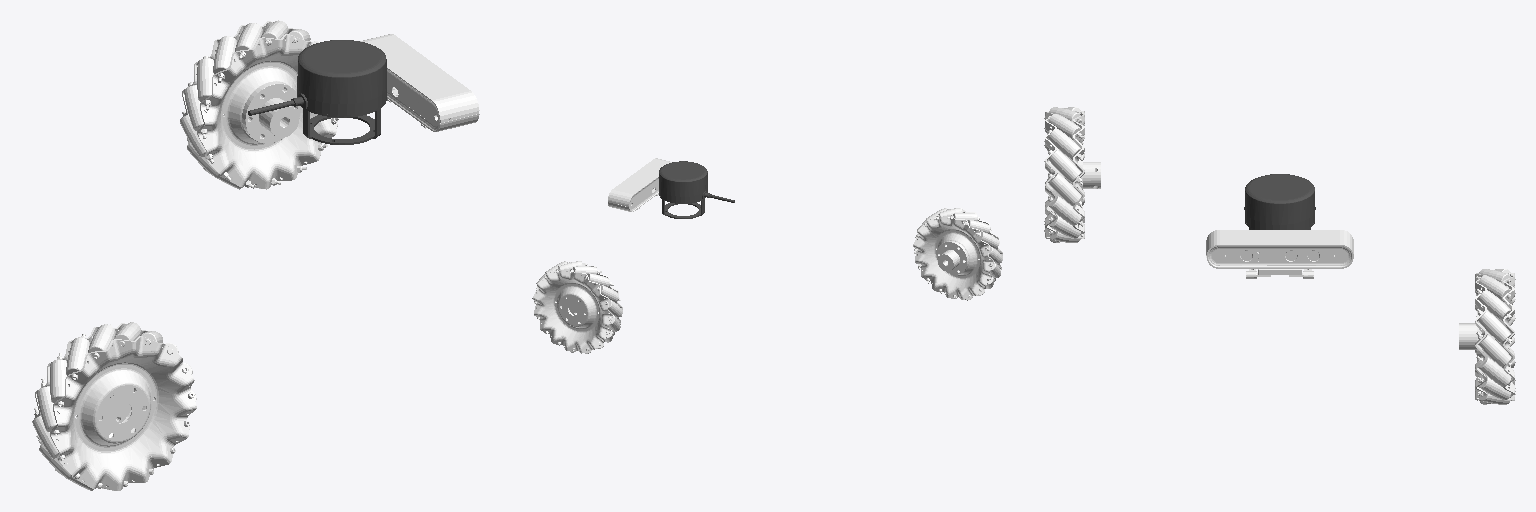
The robot description file, URDF, robot "senior_mec_dl_robot":
<?xml version="1.0" encoding="utf-8"?>
<!-- This URDF was automatically created by SolidWorks to URDF Exporter! Originally created by [author] ([email redacted]) 
     Commit Version: 1.6.0-4-g7f85cfe  Build Version: 1.6.7995.38578
     For more information, please see http://wiki.ros.org/sw_urdf_exporter -->
<robot
  name="senior_mec_dl_robot">
  <link
    name="base_link">
    <inertial>
      <origin
        xyz="0.00395812997139428 -0.0181699700367143 0.0426976808291864"
        rpy="0 0 0" />
      <mass
        value="3.63363059228835" />
      <inertia
        ixx="0.0123476894434173"
        ixy="-3.75380777513439E-05"
        ixz="3.2955850810326E-06"
        iyy="0.0191530909543642"
        iyz="-4.72702736402811E-07"
        izz="0.0300856570898858" />
    </inertial>
    <visual>
      <origin
        xyz="0 0 0"
        rpy="0 0 0" />
      <geometry>
        <mesh
          filename="package://wheeltec_robot_urdf/meshes/senior_mec_dl_robot_meshes/base_link.STL" />
      </geometry>
      <material
        name="">
        <color
          rgba="0.741176470588235 0.901960784313726 0.956862745098039 1" />
      </material>
    </visual>
    <collision>
      <origin
        xyz="0 0 0"
        rpy="0 0 0" />
      <geometry>
        <mesh
          filename="package://wheeltec_robot_urdf/meshes/senior_mec_dl_robot_meshes/base_link.STL" />
      </geometry>
    </collision>
  </link>
  <link
    name="lf_wheel_link">
    <inertial>
      <origin
        xyz="1.59463379857394E-05 -0.00251989341236478 4.50644259958333E-06"
        rpy="0 0 0" />
      <mass
        value="0.242981515052131" />
      <inertia
        ixx="0.000457072694528196"
        ixy="-1.9250151988867E-07"
        ixz="1.81223948807993E-08"
        iyy="0.000868054982970888"
        iyz="1.62139611461968E-08"
        izz="0.000456492835033346" />
    </inertial>
    <visual>
      <origin
        xyz="0 0 0"
        rpy="0 0 0" />
      <geometry>
        <mesh
          filename="package://wheeltec_robot_urdf/meshes/senior_mec_dl_robot_meshes/lf_wheel_link.STL" />
      </geometry>
      <material
        name="">
        <color
          rgba="1 1 1 1" />
      </material>
    </visual>
    <collision>
      <origin
        xyz="0 0 0"
        rpy="0 0 0" />
      <geometry>
        <mesh
          filename="package://wheeltec_robot_urdf/meshes/senior_mec_dl_robot_meshes/lf_wheel_link.STL" />
      </geometry>
    </collision>
  </link>
  <joint
    name="lf_wheel_joint"
    type="continuous">
    <origin
      xyz="0.213993160645858 0.240475641802969 0.016474000000001"
      rpy="0 0 0" />
    <parent
      link="base_link" />
    <child
      link="lf_wheel_link" />
    <axis
      xyz="0 -0.999999999999996 0" />
  </joint>
  <link
    name="lb_wheel_link">
    <inertial>
      <origin
        xyz="1.59463380910441E-05 -0.00251989341229217 4.50644260036048E-06"
        rpy="0 0 0" />
      <mass
        value="0.242981515052133" />
      <inertia
        ixx="0.000457072694528221"
        ixy="-1.92501519890702E-07"
        ixz="1.81223938957395E-08"
        iyy="0.000868054982970891"
        iyz="1.62139604712804E-08"
        izz="0.000456492835033342" />
    </inertial>
    <visual>
      <origin
        xyz="0 0 0"
        rpy="0 0 0" />
      <geometry>
        <mesh
          filename="package://wheeltec_robot_urdf/meshes/senior_mec_dl_robot_meshes/lb_wheel_link.STL" />
      </geometry>
      <material
        name="">
        <color
          rgba="1 1 1 1" />
      </material>
    </visual>
    <collision>
      <origin
        xyz="0 0 0"
        rpy="0 0 0" />
      <geometry>
        <mesh
          filename="package://wheeltec_robot_urdf/meshes/senior_mec_dl_robot_meshes/lb_wheel_link.STL" />
      </geometry>
    </collision>
  </link>
  <joint
    name="lb_wheel_joint"
    type="continuous">
    <origin
      xyz="-0.214006839354142 0.24047564180297 0.016474000000001"
      rpy="0 0 0" />
    <parent
      link="base_link" />
    <child
      link="lb_wheel_link" />
    <axis
      xyz="0 -0.999999999999996 0" />
  </joint>
  <link
    name="rb_wheel_link">
    <inertial>
      <origin
        xyz="-1.59465977699336E-05 0.00251989349341034 4.50644259479549E-06"
        rpy="0 0 0" />
      <mass
        value="0.242981515052113" />
      <inertia
        ixx="0.000457072694526328"
        ixy="-1.92499502994276E-07"
        ixz="-1.81223950058615E-08"
        iyy="0.000868054982972683"
        iyz="-1.6213961026137E-08"
        izz="0.000456492835033308" />
    </inertial>
    <visual>
      <origin
        xyz="0 0 0"
        rpy="0 0 0" />
      <geometry>
        <mesh
          filename="package://wheeltec_robot_urdf/meshes/senior_mec_dl_robot_meshes/rb_wheel_link.STL" />
      </geometry>
      <material
        name="">
        <color
          rgba="1 1 1 1" />
      </material>
    </visual>
    <collision>
      <origin
        xyz="0 0 0"
        rpy="0 0 0" />
      <geometry>
        <mesh
          filename="package://wheeltec_robot_urdf/meshes/senior_mec_dl_robot_meshes/rb_wheel_link.STL" />
      </geometry>
    </collision>
  </link>
  <joint
    name="rb_wheel_joint"
    type="continuous">
    <origin
      xyz="-0.214006839354144 -0.24044035819703 0.016474000000001"
      rpy="0 0 0" />
    <parent
      link="base_link" />
    <child
      link="rb_wheel_link" />
    <axis
      xyz="0 0.999999999999996 0" />
  </joint>
  <link
    name="rf_wheel_link">
    <inertial>
      <origin
        xyz="-1.59465979211737E-05 0.00251989349332665 4.50644254888777E-06"
        rpy="0 0 0" />
      <mass
        value="0.242981515051806" />
      <inertia
        ixx="0.000457072694525809"
        ixy="-1.92499502845376E-07"
        ixz="-1.81223936037035E-08"
        iyy="0.000868054982972009"
        iyz="-1.62139602190554E-08"
        izz="0.000456492835032971" />
    </inertial>
    <visual>
      <origin
        xyz="0 0 0"
        rpy="0 0 0" />
      <geometry>
        <mesh
          filename="package://wheeltec_robot_urdf/meshes/senior_mec_dl_robot_meshes/rf_wheel_link.STL" />
      </geometry>
      <material
        name="">
        <color
          rgba="1 1 1 1" />
      </material>
    </visual>
    <collision>
      <origin
        xyz="0 0 0"
        rpy="0 0 0" />
      <geometry>
        <mesh
          filename="package://wheeltec_robot_urdf/meshes/senior_mec_dl_robot_meshes/rf_wheel_link.STL" />
      </geometry>
    </collision>
  </link>
  <joint
    name="rf_wheel_joint"
    type="continuous">
    <origin
      xyz="0.213993160645856 -0.240440358197031 0.016474000000001"
      rpy="0 0 0" />
    <parent
      link="base_link" />
    <child
      link="rf_wheel_link" />
    <axis
      xyz="0 0.999999999999996 0" />
  </joint>
  <link
    name="camera_link">
    <inertial>
      <origin
        xyz="3.44868297197376E-07 -3.53598340572376E-07 1.07617269679006E-07"
        rpy="0 0 0" />
      <mass
        value="0.0559842512667171" />
      <inertia
        ixx="0.000130810959355657"
        ixy="1.20255121404776E-07"
        ixz="1.62335437373898E-06"
        iyy="1.91148635028014E-05"
        iyz="-2.800166957858E-08"
        izz="0.000131387469540189" />
    </inertial>
    <visual>
      <origin
        xyz="0 0 0"
        rpy="0 0 0" />
      <geometry>
        <mesh
          filename="package://wheeltec_robot_urdf/meshes/senior_mec_dl_robot_meshes/camera_link.STL" />
      </geometry>
      <material
        name="">
        <color
          rgba="1 1 1 1" />
      </material>
    </visual>
    <collision>
      <origin
        xyz="0 0 0"
        rpy="0 0 0" />
      <geometry>
        <mesh
          filename="package://wheeltec_robot_urdf/meshes/senior_mec_dl_robot_meshes/camera_link.STL" />
      </geometry>
    </collision>
  </link>
  <joint
    name="camera_joint"
    type="fixed">
    <origin
      xyz="0.231597160645857 0.000245641802968558 0.128204000000001"
      rpy="0 0 0" />
    <parent
      link="base_link" />
    <child
      link="camera_link" />
    <axis
      xyz="0 0 0" />
  </joint>
  <link
    name="laser_link">
    <inertial>
      <origin
        xyz="0.00196458631092417 -3.57895369235579E-06 -0.000201831632183805"
        rpy="0 0 0" />
      <mass
        value="0.0477519163700356" />
      <inertia
        ixx="3.38461999734689E-05"
        ixy="-2.19897049050557E-09"
        ixz="1.07118468692932E-06"
        iyy="3.9415041585171E-05"
        iyz="6.83978477325031E-10"
        izz="5.60787042097609E-05" />
    </inertial>
    <visual>
      <origin
        xyz="0 0 0"
        rpy="0 0 0" />
      <geometry>
        <mesh
          filename="package://wheeltec_robot_urdf/meshes/senior_mec_dl_robot_meshes/laser.STL" />
      </geometry>
      <material
        name="">
        <color
          rgba="0.376470588235294 0.376470588235294 0.376470588235294 1" />
      </material>
    </visual>
    <collision>
      <origin
        xyz="0 0 0"
        rpy="0 0 0" />
      <geometry>
        <mesh
          filename="package://wheeltec_robot_urdf/meshes/senior_mec_dl_robot_meshes/laser.STL" />
      </geometry>
    </collision>
  </link>
  <joint
    name="laser_joint"
    type="fixed">
    <origin
      xyz="0.156992810690855 1.79917579708449E-05 0.146524183741432"
      rpy="0 0 3.14159265358979" />
    <parent
      link="base_link" />
    <child
      link="laser_link" />
    <axis
      xyz="0 0 0" />
  </joint>
  <link
    name="controller_link">
    <inertial>
      <origin
        xyz="-0.0497103400547847 0.0175133932690561 0.00856001464881978"
        rpy="0 0 0" />
      <mass
        value="0.00107921954114689" />
      <inertia
        ixx="1.16330109995671E-08"
        ixy="-3.94092662514708E-09"
        ixz="3.69212982720616E-10"
        iyy="2.2683002186192E-07"
        iyz="5.23015112085359E-10"
        izz="2.25657044103421E-07" />
    </inertial>
    <visual>
      <origin
        xyz="0 0 0"
        rpy="0 0 0" />
      <geometry>
        <mesh
          filename="package://wheeltec_robot_urdf/meshes/senior_mec_dl_robot_meshes/controller_link.STL" />
      </geometry>
      <material
        name="">
        <color
          rgba="0.741176470588235 0.901960784313726 0.956862745098039 1" />
      </material>
    </visual>
    <collision>
      <origin
        xyz="0 0 0"
        rpy="0 0 0" />
      <geometry>
        <mesh
          filename="package://wheeltec_robot_urdf/meshes/senior_mec_dl_robot_meshes/controller_link.STL" />
      </geometry>
    </collision>
  </link>
  <joint
    name="controller_joint"
    type="fixed">
    <origin
      xyz="0.101379911991689 0.0620176418028498 0.00150000000000076"
      rpy="0 0 0" />
    <parent
      link="base_link" />
    <child
      link="controller_link" />
    <axis
      xyz="0 0 0" />
  </joint>
</robot>

--- Facts derived from the render (not from the file) ---
Views: 3 orthographic renders of the robot side by side, from view 1: azimuth 30°, elevation 25°; view 2: azimuth 150°, elevation 25°; view 3: azimuth 270°, elevation 25°.
Model senior_mec_dl_robot with 8 links and 7 joints (4 continuous, 3 fixed), rooted at base_link, posed every joint at zero.
Links seen in each view (by area): view 1: rb_wheel_link, lf_wheel_link, laser_link, camera_link; view 2: rb_wheel_link, lf_wheel_link, laser_link, camera_link; view 3: camera_link, lf_wheel_link, rb_wheel_link, laser_link.
Boxes of the visible links, x1,y1,x2,y2 form: rb_wheel_link: (32,322,196,490); lf_wheel_link: (180,20,339,189); laser_link: (248,40,386,144); camera_link: (360,34,479,131); rb_wheel_link: (913,208,1002,300); lf_wheel_link: (532,261,622,353); laser_link: (659,161,734,218); camera_link: (608,158,671,211); camera_link: (1206,230,1353,278); lf_wheel_link: (1459,269,1515,404); rb_wheel_link: (1044,107,1100,242); laser_link: (1244,174,1315,229).
Bounding box of the posed robot: 0.5802 × 0.5269 × 0.234 m (x, y, z).
4 mesh visuals loaded from 8 distinct referenced files (4 binary STL); not drawn: 4 (reference not matched to a file when rendering).